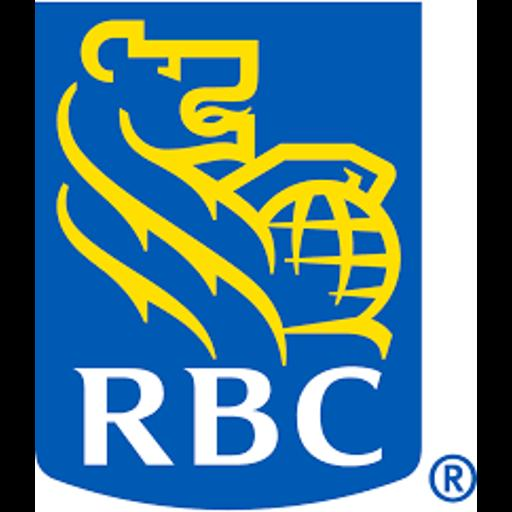RBC Royal Bank: (35, 0, 477, 512)
